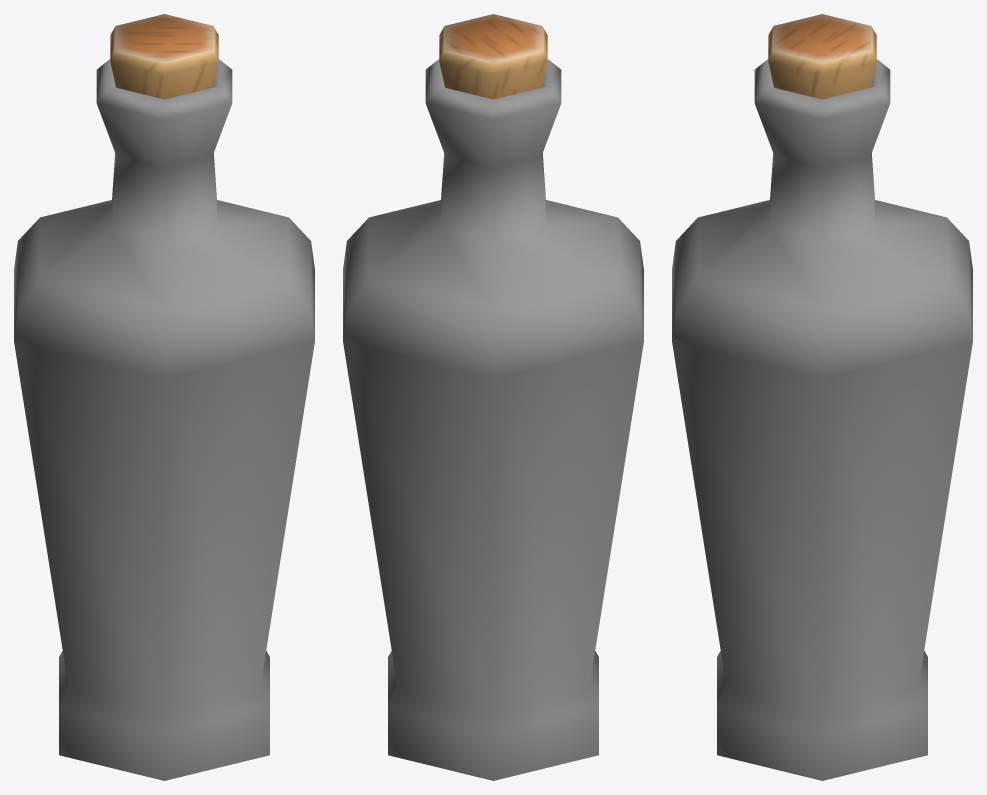
File: Liquor.fbx
3 renders of one model, left to right at view 1: azimuth 30°, elevation 25°; view 2: azimuth 150°, elevation 25°; view 3: azimuth 270°, elevation 25°, orthographic.
Parts seen in each view (by area): view 1: Liquor, Cork; view 2: Liquor, Cork; view 3: Liquor, Cork.
Part boxes in pixels (bbox=[...]): Liquor: bbox=[14, 59, 314, 780]; Cork: bbox=[110, 14, 218, 99]; Liquor: bbox=[343, 59, 643, 780]; Cork: bbox=[439, 14, 547, 99]; Liquor: bbox=[672, 59, 972, 780]; Cork: bbox=[768, 14, 876, 99].
Size of the model in its own units: 12.28 by 26.99 by 10.64.
